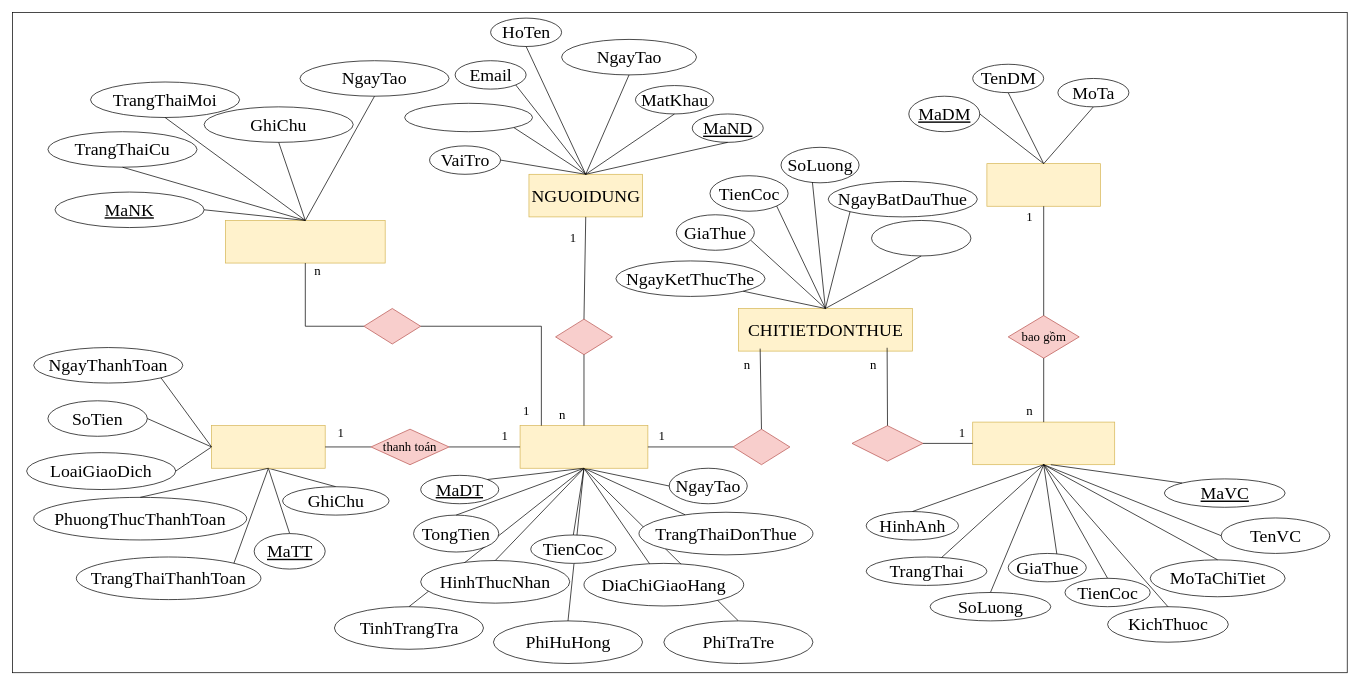
The diagram is 1360 pixels wide and 685 high, and some of its shapes have lost their labels. The shapes that lost their labels are listed below. From the top down, each one's centre as x and y in pixels, then its label:
At [468,117]: "SoDienThoai".
At [1043,184]: "DANHMUC".
At [305,241]: "NHATKYDONTHUE".
At [921,238]: "MaCT".
At [392,326]: "lưu".
At [583,336]: "đặt".
At [268,446]: "THANHTOAN".
At [583,446]: "DONTHUE".
At [761,446]: "có".
At [887,443]: "được thuê".
At [1043,443]: "VAYCUOI".
